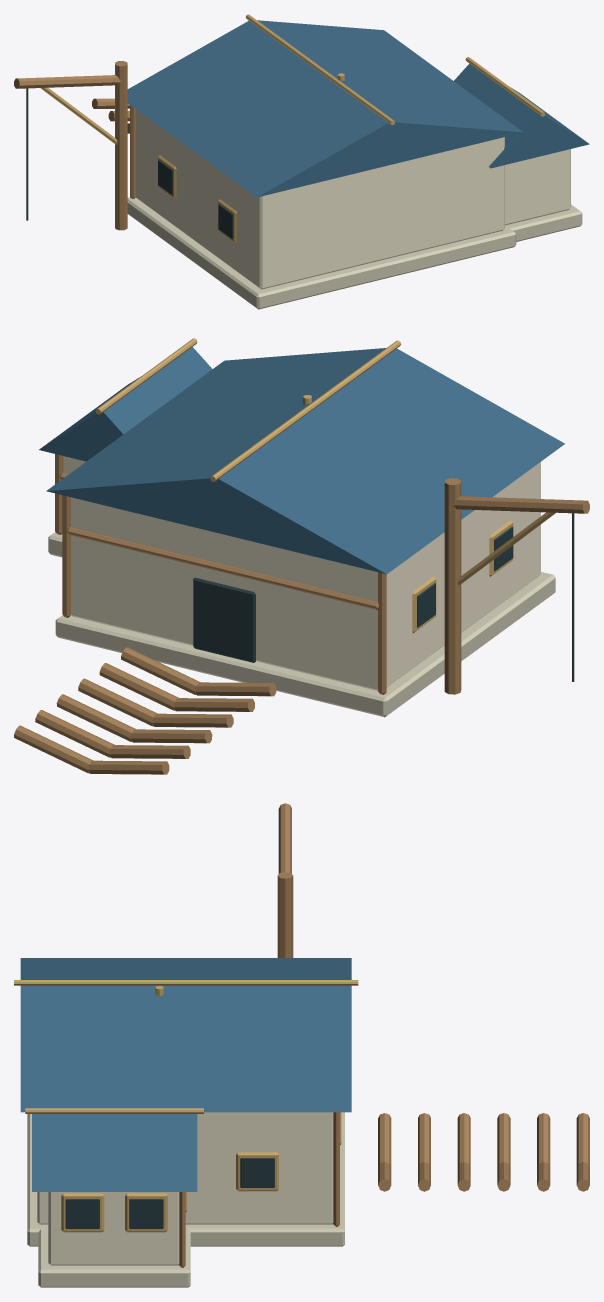
Rendered from level_08.glb.
3 views of the same model, one above another, from view 1: azimuth 30°, elevation 25°; view 2: azimuth 150°, elevation 25°; view 3: azimuth 270°, elevation 25° (orthographic). The views are drawn at different scales.
Parts seen in each view (by area): view 1: shipyard — level 08; view 2: shipyard — level 08; view 3: shipyard — level 08.
Boxes of the visible parts, box(x1,y1,x2,y2) form: shipyard — level 08: box(14, 14, 589, 309); shipyard — level 08: box(14, 338, 589, 774); shipyard — level 08: box(14, 803, 589, 1287).
Bounding box in the file's own units: 9.65 × 3.66 × 8.7.
